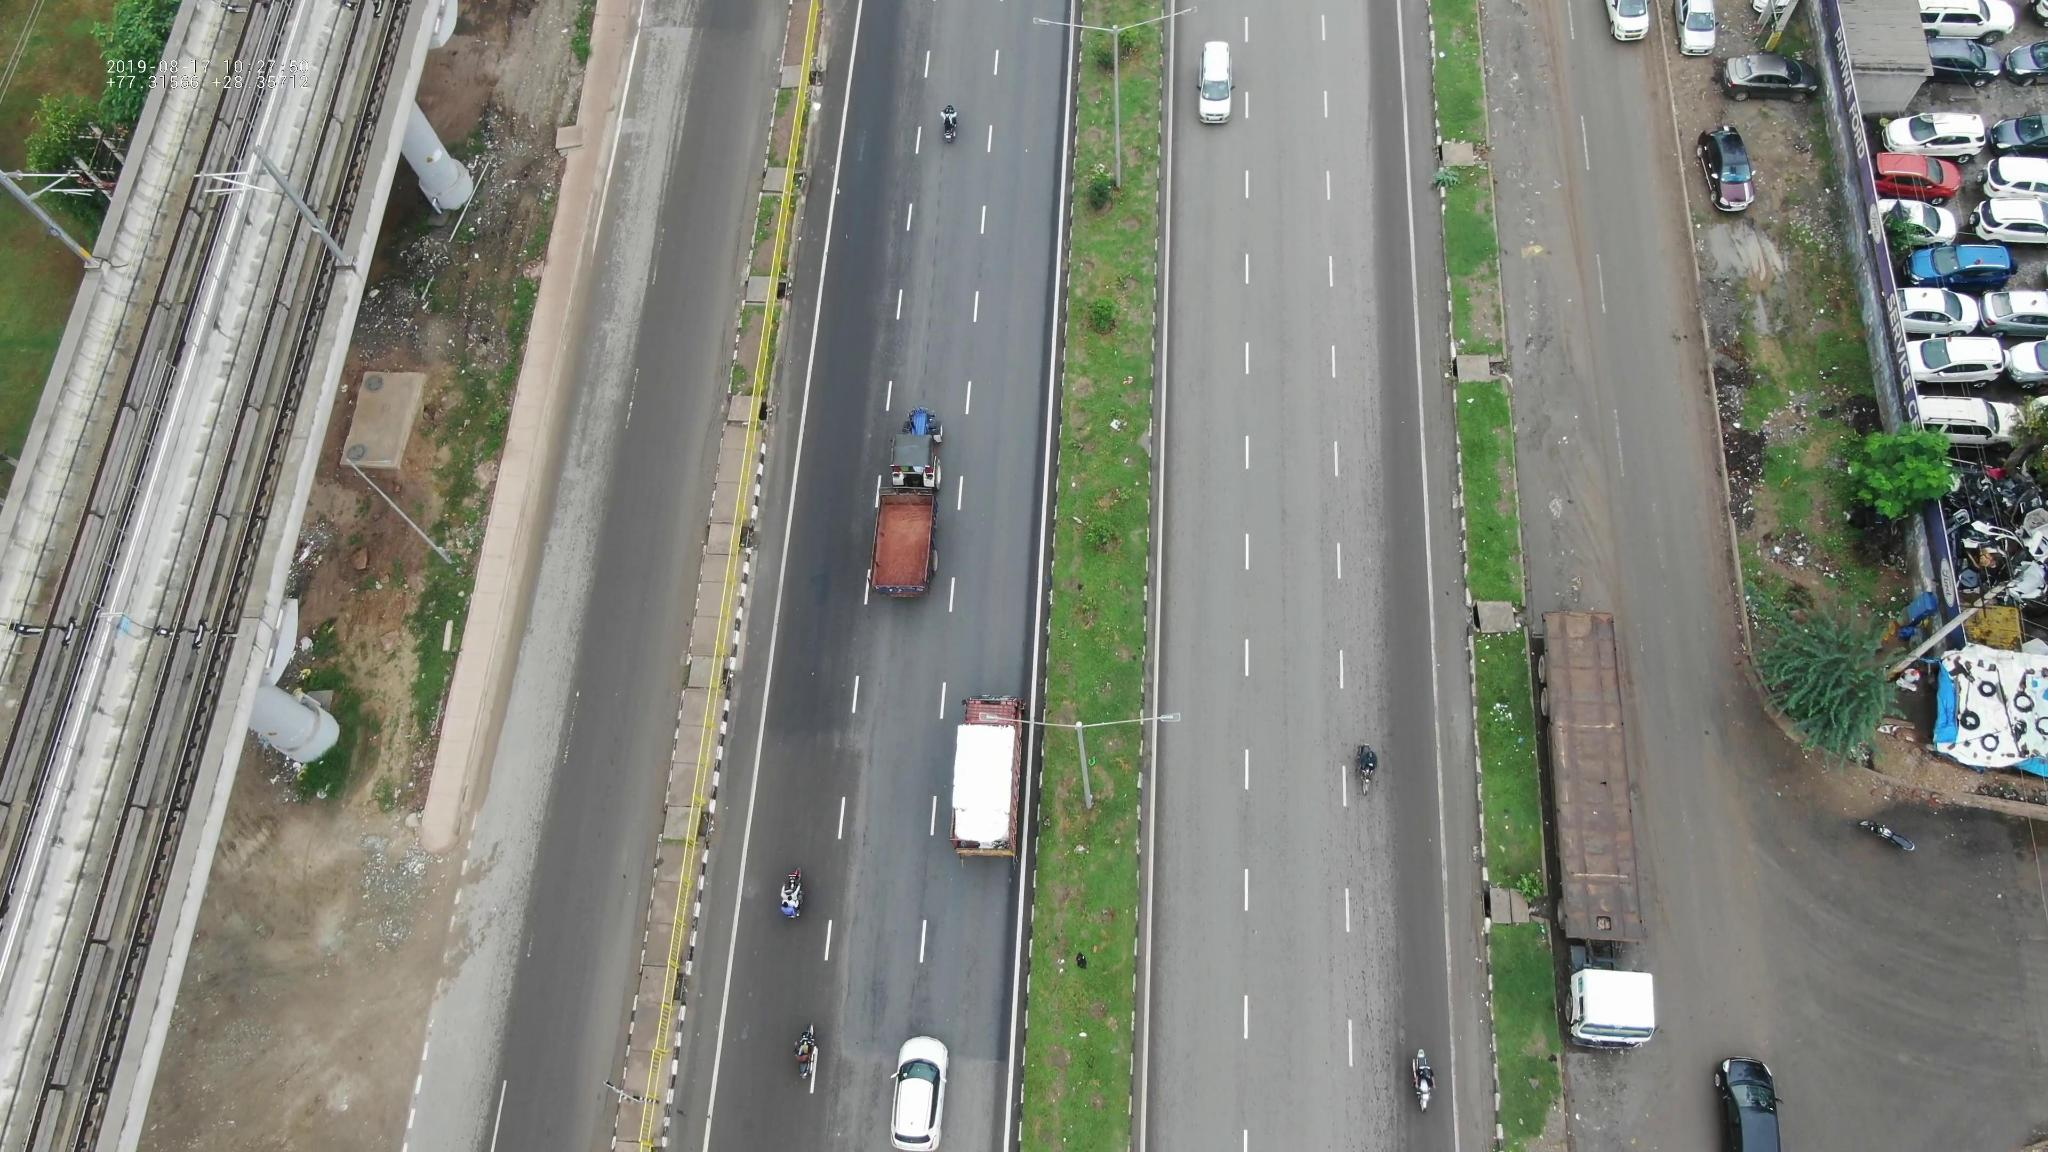Muddy_road: (1506, 246, 1606, 596), (1480, 1, 1587, 231)
